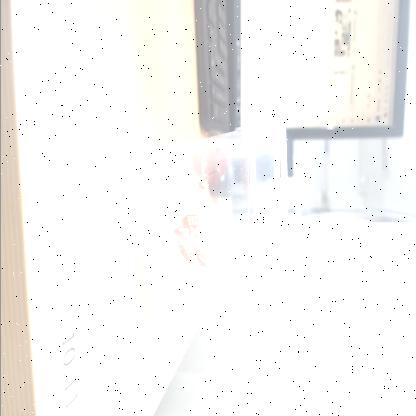Others: (126, 101, 288, 298)
